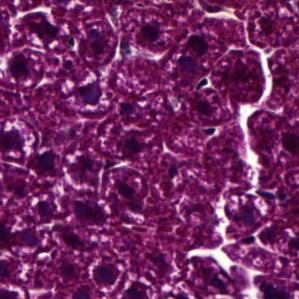inflammation: (8, 4, 64, 49), (88, 251, 130, 294), (1, 118, 39, 164)
